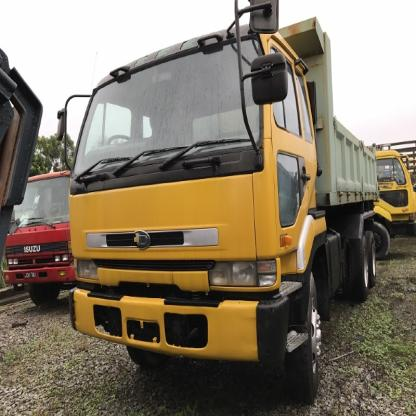dump_truck: (63, 4, 389, 399)
